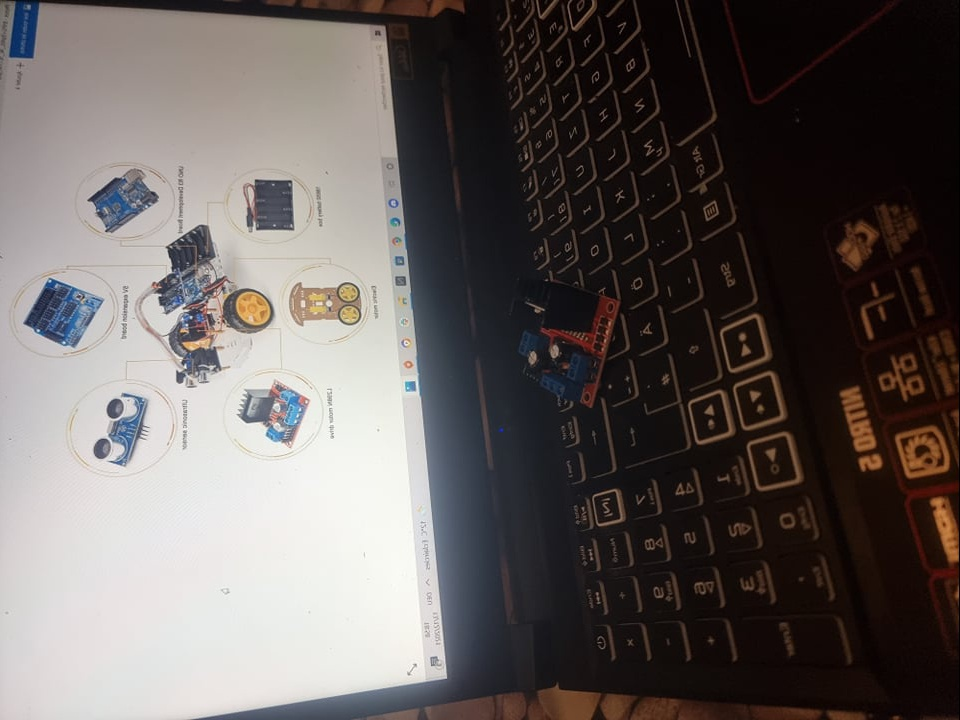5V EXPANSION: (22, 275, 106, 352), (153, 268, 185, 314)
BATTERY BOX: (164, 223, 216, 267), (255, 177, 295, 229)
MOTOR: (504, 275, 624, 406), (238, 380, 313, 447), (177, 310, 208, 342)
SENSOR: (92, 393, 146, 467), (182, 370, 216, 391)
UNO R3: (89, 167, 161, 232), (184, 263, 214, 307)
